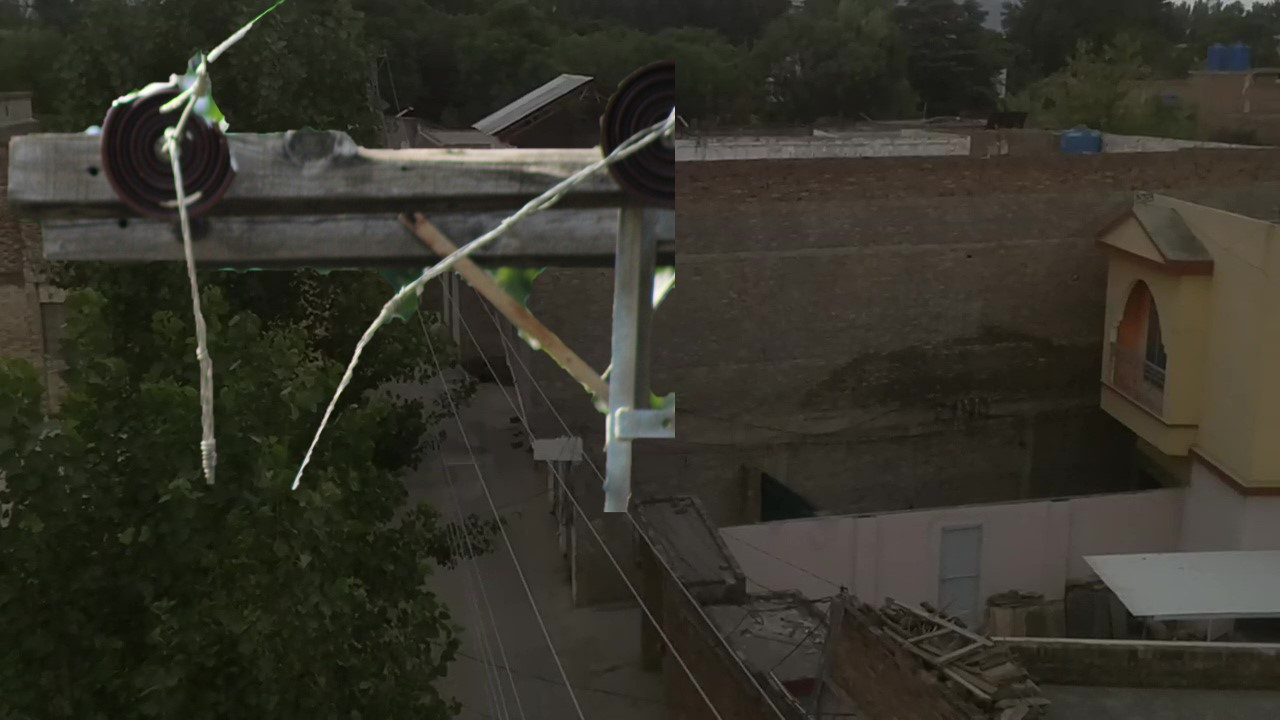defect_disc: (94, 70, 247, 224)
